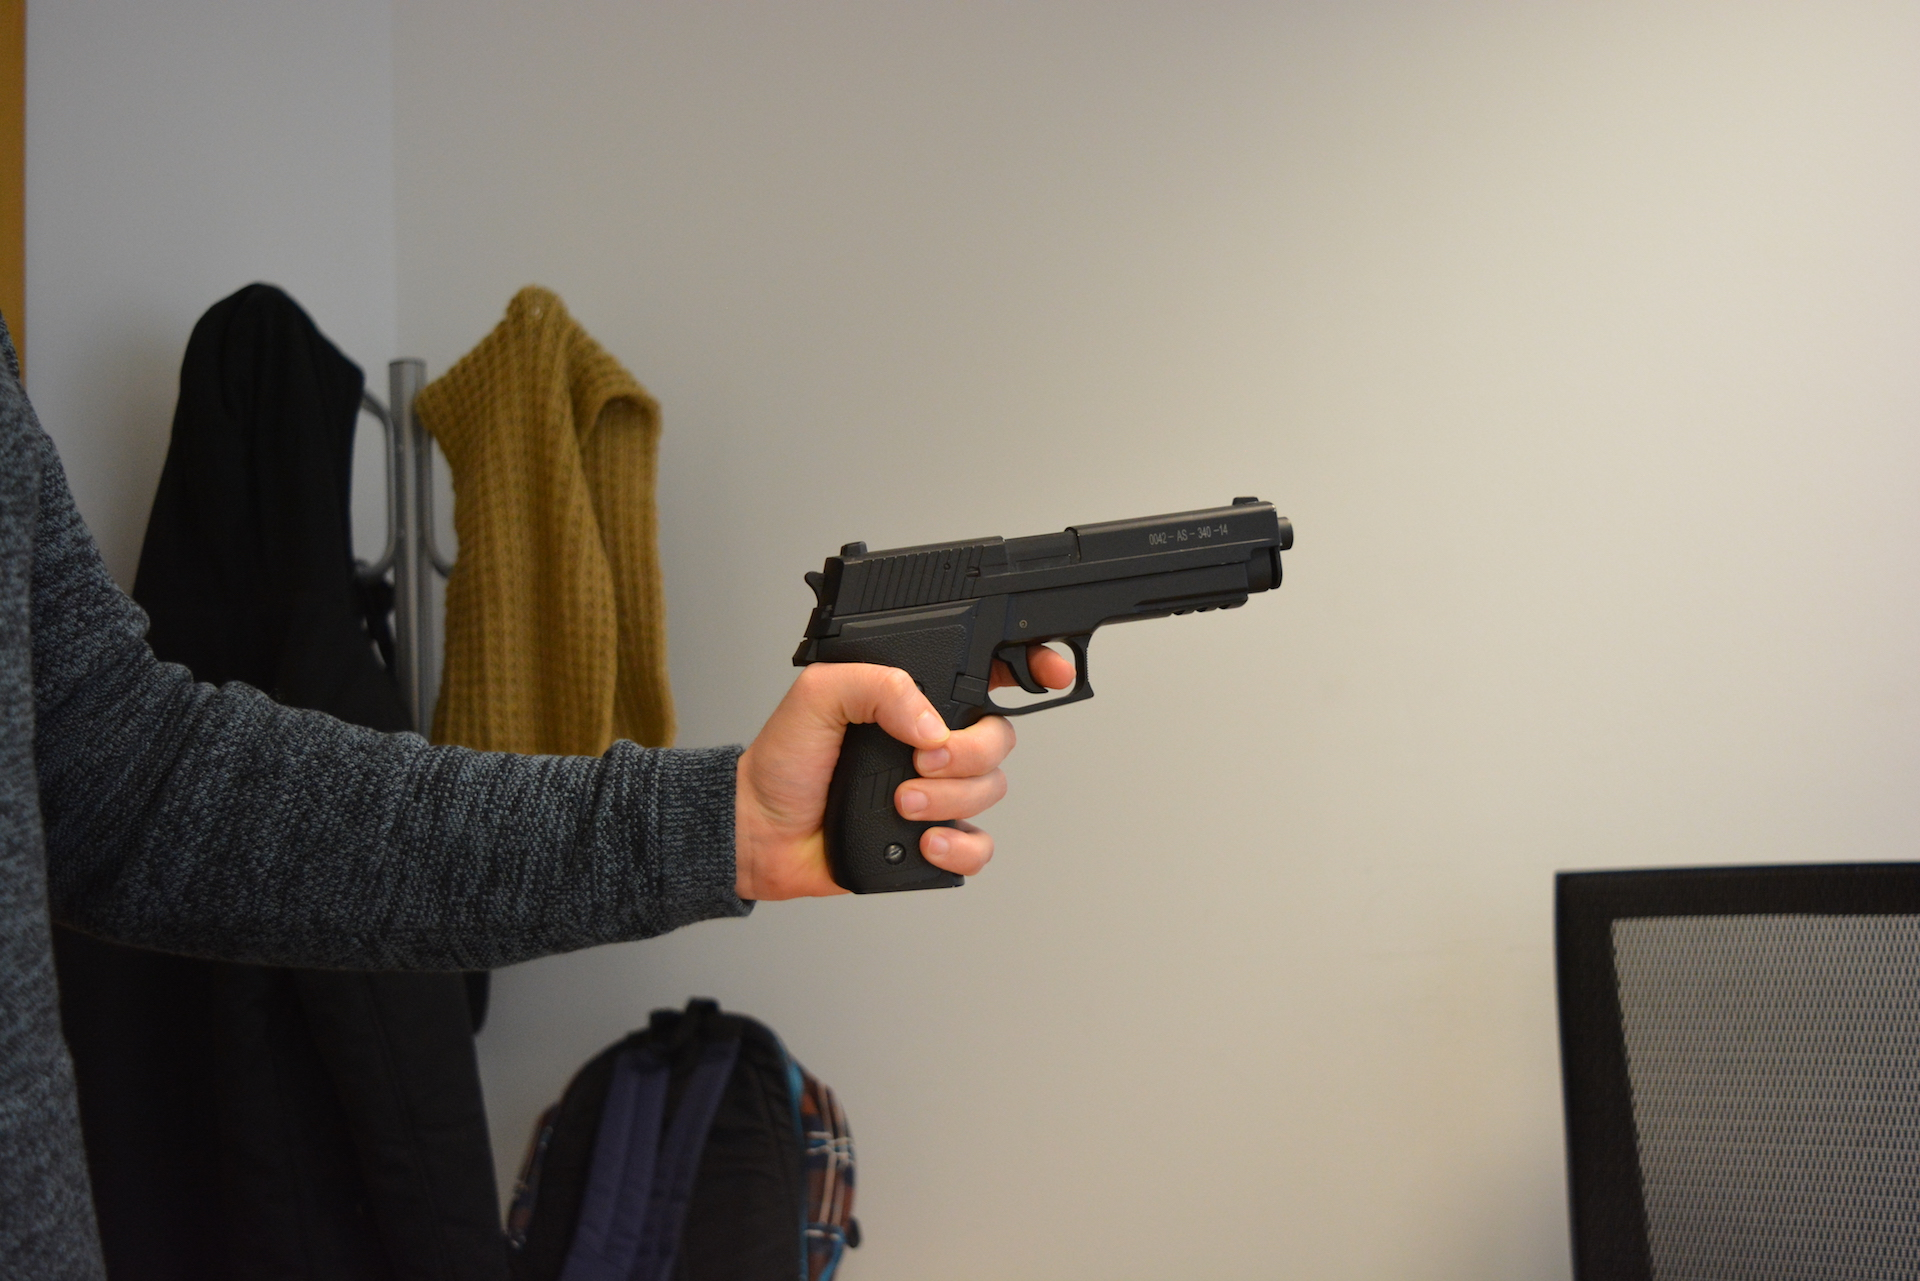pistol: (788, 493, 1297, 901)
